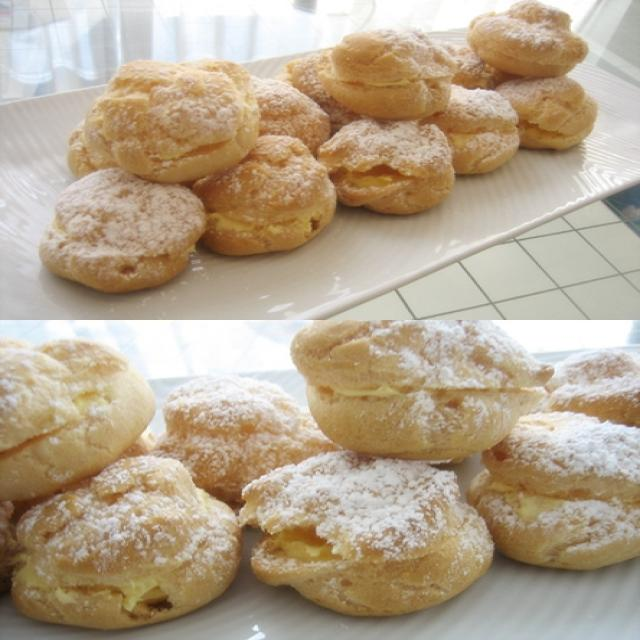炸货点心: (6, 10, 631, 631)
蛋糕甜品: (6, 10, 631, 631)
